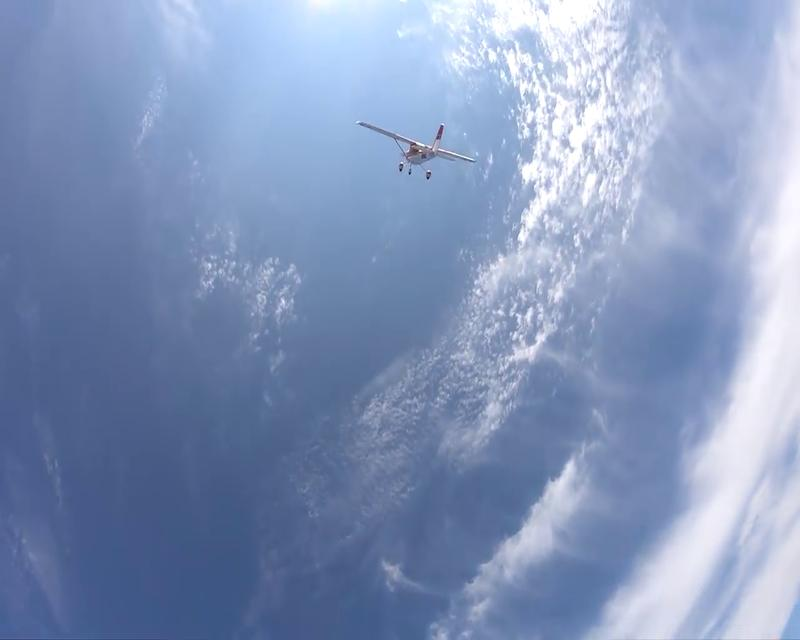UAV: (355, 122, 475, 182)
